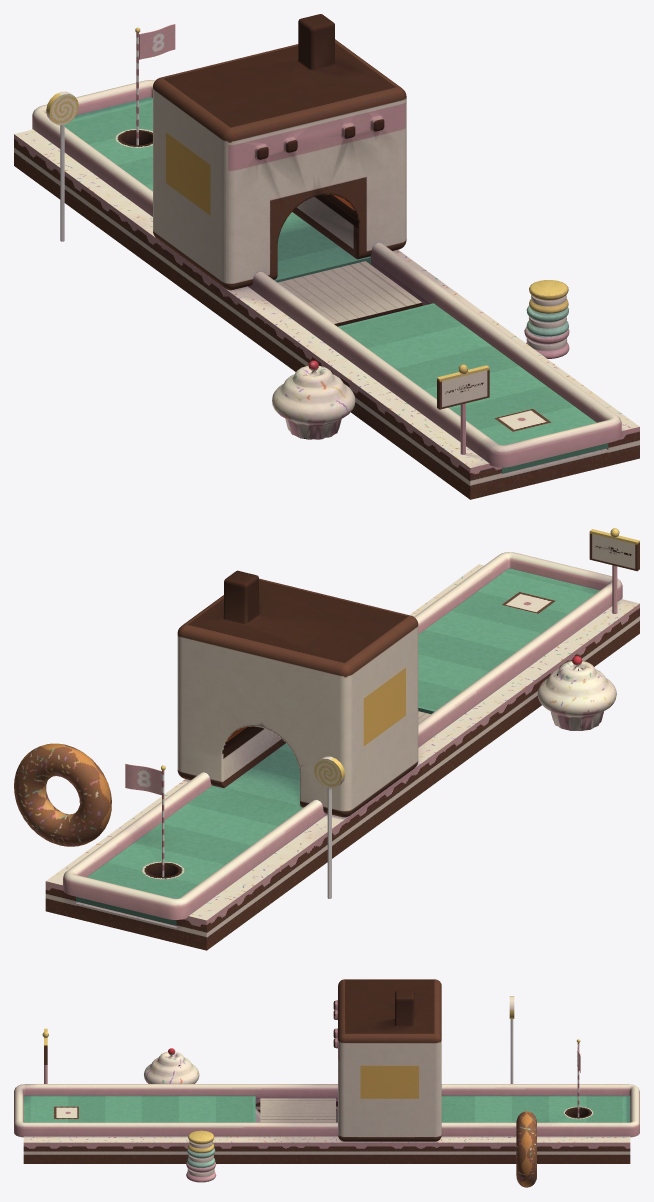
Rendered from hole08.glb.
3 views of the same model, one above another, from view 1: azimuth 30°, elevation 25°; view 2: azimuth 150°, elevation 25°; view 3: azimuth 270°, elevation 25° (orthographic). The views are drawn at different scales.
Parts seen in each view (by area): view 1: Oven, Base, Rails, Green, GreenB, OvenDoor, Decor1, Decor2, HoleSign, Decor4, Flag; view 2: Oven, Base, Rails, GreenB, Green, Decor3, Decor1, HoleSign, Decor4, Flag; view 3: Oven, Base, Rails, Green, GreenB, OvenDoor, Decor3, Decor1, Decor2, Decor4.
Part boxes in pixels (x1=…): Oven: x1=153, y1=14, x2=406, y2=290; Base: x1=14, y1=129, x2=639, y2=499; Rails: x1=32, y1=80, x2=621, y2=467; Green: x1=338, y1=303, x2=608, y2=473; GreenB: x1=64, y1=97, x2=370, y2=282; OvenDoor: x1=277, y1=261, x2=422, y2=326; Decor1: x1=272, y1=360, x2=355, y2=439; Decor2: x1=524, y1=280, x2=569, y2=358; HoleSign: x1=437, y1=364, x2=489, y2=454; Decor4: x1=46, y1=91, x2=78, y2=241; Flag: x1=135, y1=24, x2=175, y2=145; Oven: x1=177, y1=570, x2=418, y2=817; Base: x1=45, y1=564, x2=639, y2=950; Rails: x1=63, y1=552, x2=622, y2=919; GreenB: x1=76, y1=743, x2=303, y2=925; Green: x1=418, y1=568, x2=599, y2=713; Decor3: x1=14, y1=743, x2=111, y2=846; Decor1: x1=537, y1=656, x2=616, y2=730; HoleSign: x1=589, y1=528, x2=639, y2=613; Decor4: x1=314, y1=756, x2=345, y2=898; Flag: x1=125, y1=763, x2=165, y2=876; Oven: x1=333, y1=979, x2=441, y2=1141; Base: x1=23, y1=1098, x2=630, y2=1163; Rails: x1=14, y1=1084, x2=639, y2=1137; Green: x1=23, y1=1095, x2=255, y2=1122; GreenB: x1=441, y1=1095, x2=630, y2=1122; OvenDoor: x1=260, y1=1098, x2=335, y2=1122; Decor3: x1=516, y1=1111, x2=536, y2=1187; Decor1: x1=144, y1=1048, x2=199, y2=1083; Decor2: x1=186, y1=1130, x2=216, y2=1182; Decor4: x1=509, y1=996, x2=514, y2=1083.
Size of what is drawn, in the model's own units: 3.74 by 2.36 by 8.46.
1 material, 1 textured.
